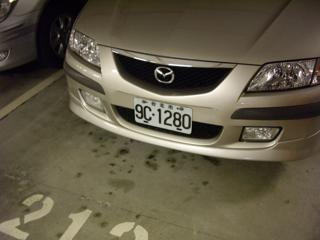plate: (131, 96, 194, 136)
